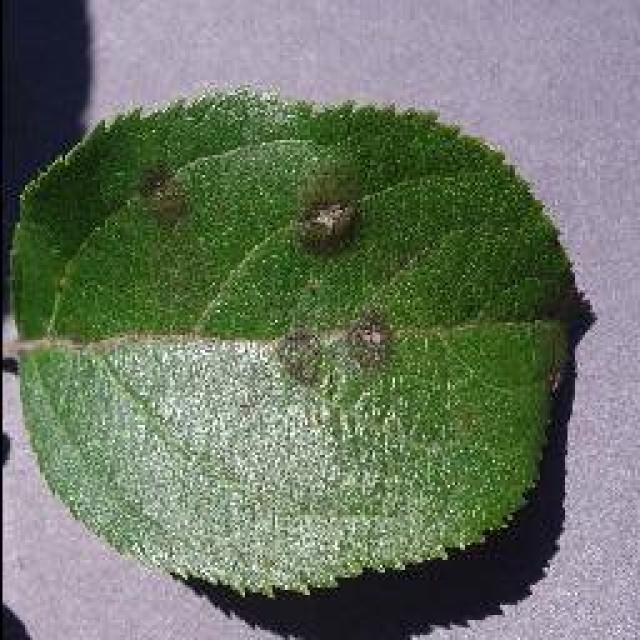apple scab disease: (2, 85, 592, 600)
